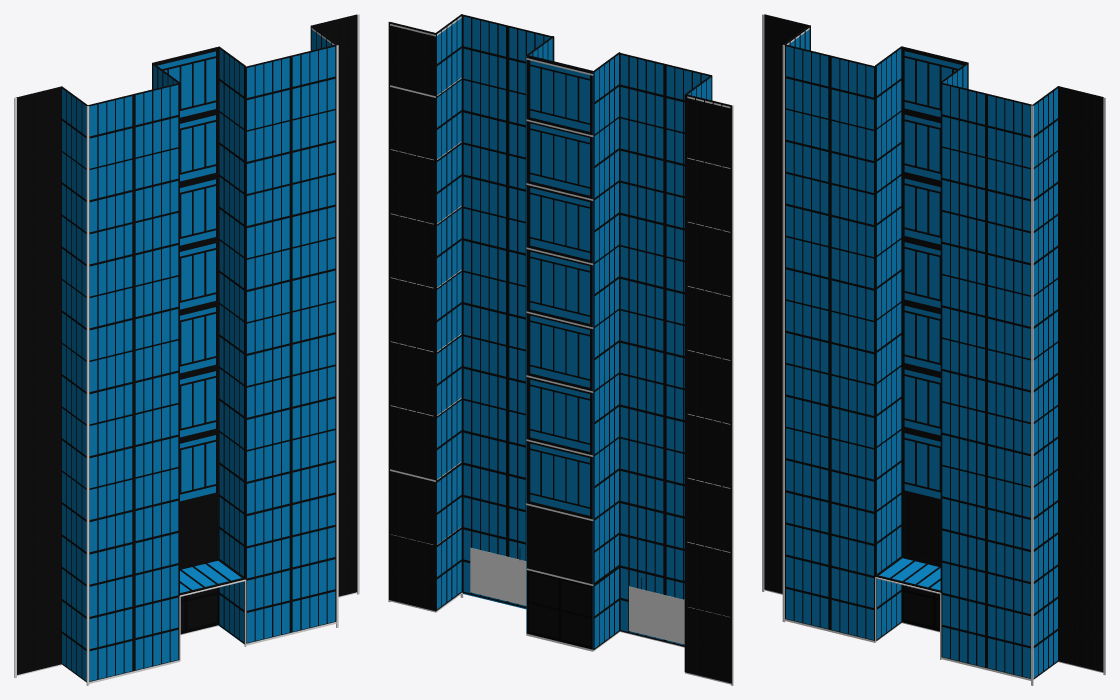
Rendered from bankfront.fbx.
3 renders of one model, left to right at view 1: azimuth 30°, elevation 25°; view 2: azimuth 150°, elevation 25°; view 3: azimuth 330°, elevation 25°, orthographic.
Parts seen in each view (by area): view 1: Dooroneclosed1; view 2: Dooroneclosed1; view 3: Dooroneclosed1.
Part boxes in pixels (bbox=[...]): Dooroneclosed1: bbox=[14, 14, 359, 685]; Dooroneclosed1: bbox=[388, 14, 733, 685]; Dooroneclosed1: bbox=[762, 14, 1105, 685].
Size of the model in its own units: 42.03 by 68.04 by 5.84.
